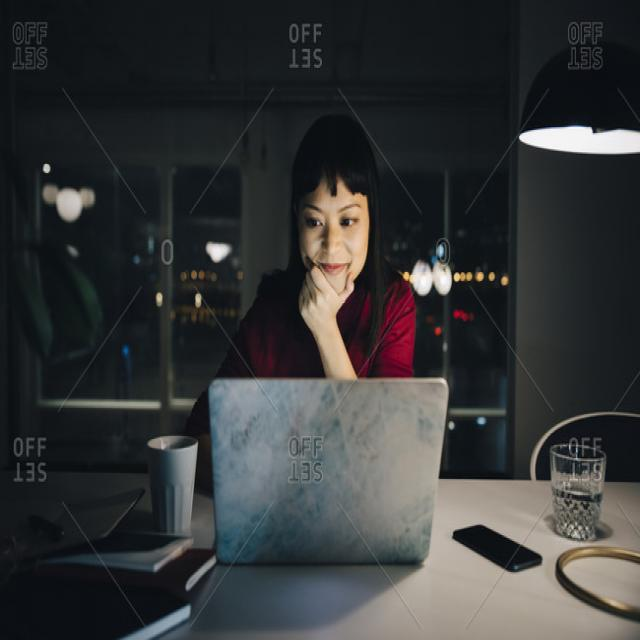No_Goggles: (300, 200, 366, 242)
No_Helmet: (282, 99, 388, 197)
